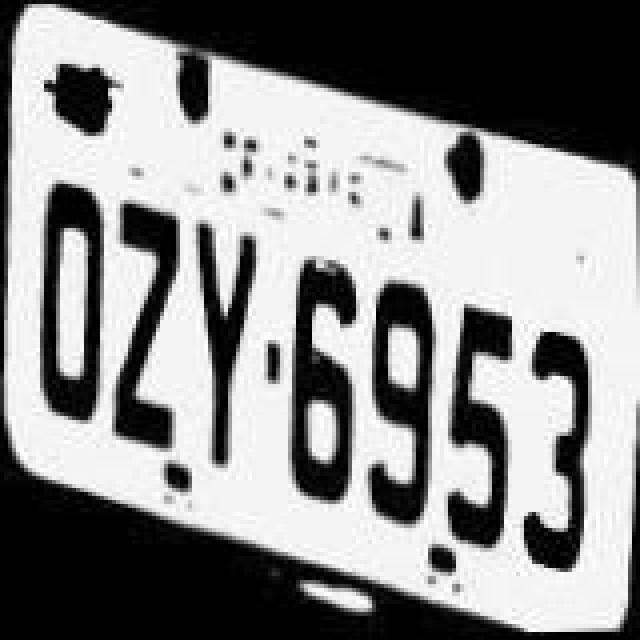3: (510, 330, 598, 566)
5: (434, 308, 522, 548)
6: (280, 254, 368, 494)
9: (360, 276, 444, 516)
O: (30, 182, 114, 426)
Y: (182, 222, 266, 466)
Z: (104, 200, 184, 456)
